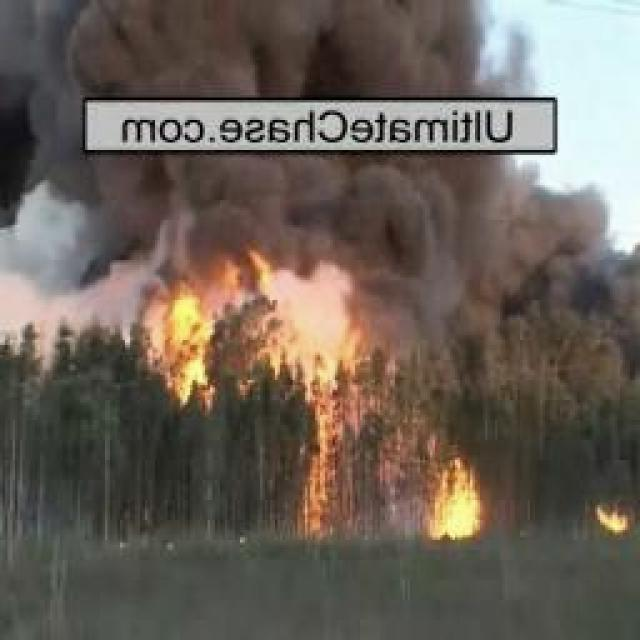Fire: (148, 250, 237, 404), (295, 350, 349, 539), (420, 448, 481, 541), (589, 502, 633, 533)
